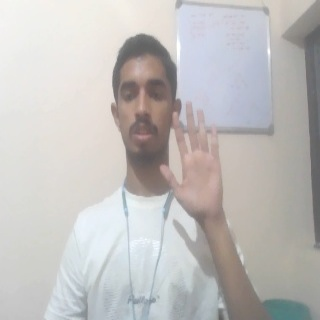Face: (109, 32, 173, 163)
Hello: (159, 101, 227, 220)
